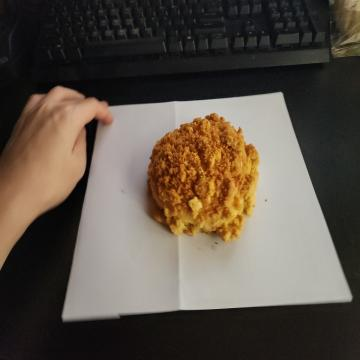soboru_bread: (149, 113, 259, 244)
